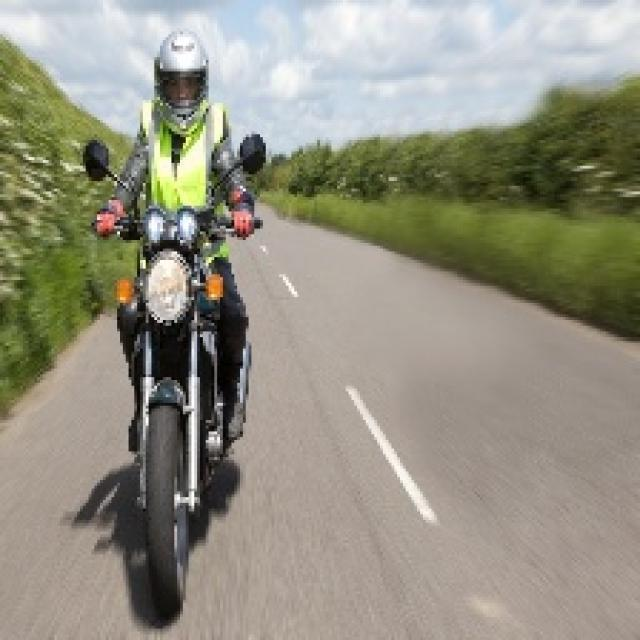motorcycle: (94, 180, 244, 634)
